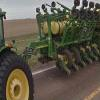Tractor: (1, 5, 82, 100)
